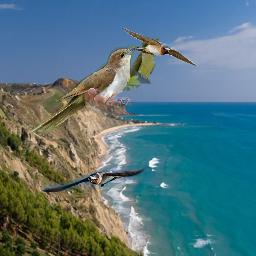Cuckoo: (29, 45, 139, 133), (115, 37, 161, 91)
Swallow: (120, 26, 198, 66), (41, 165, 146, 192)
